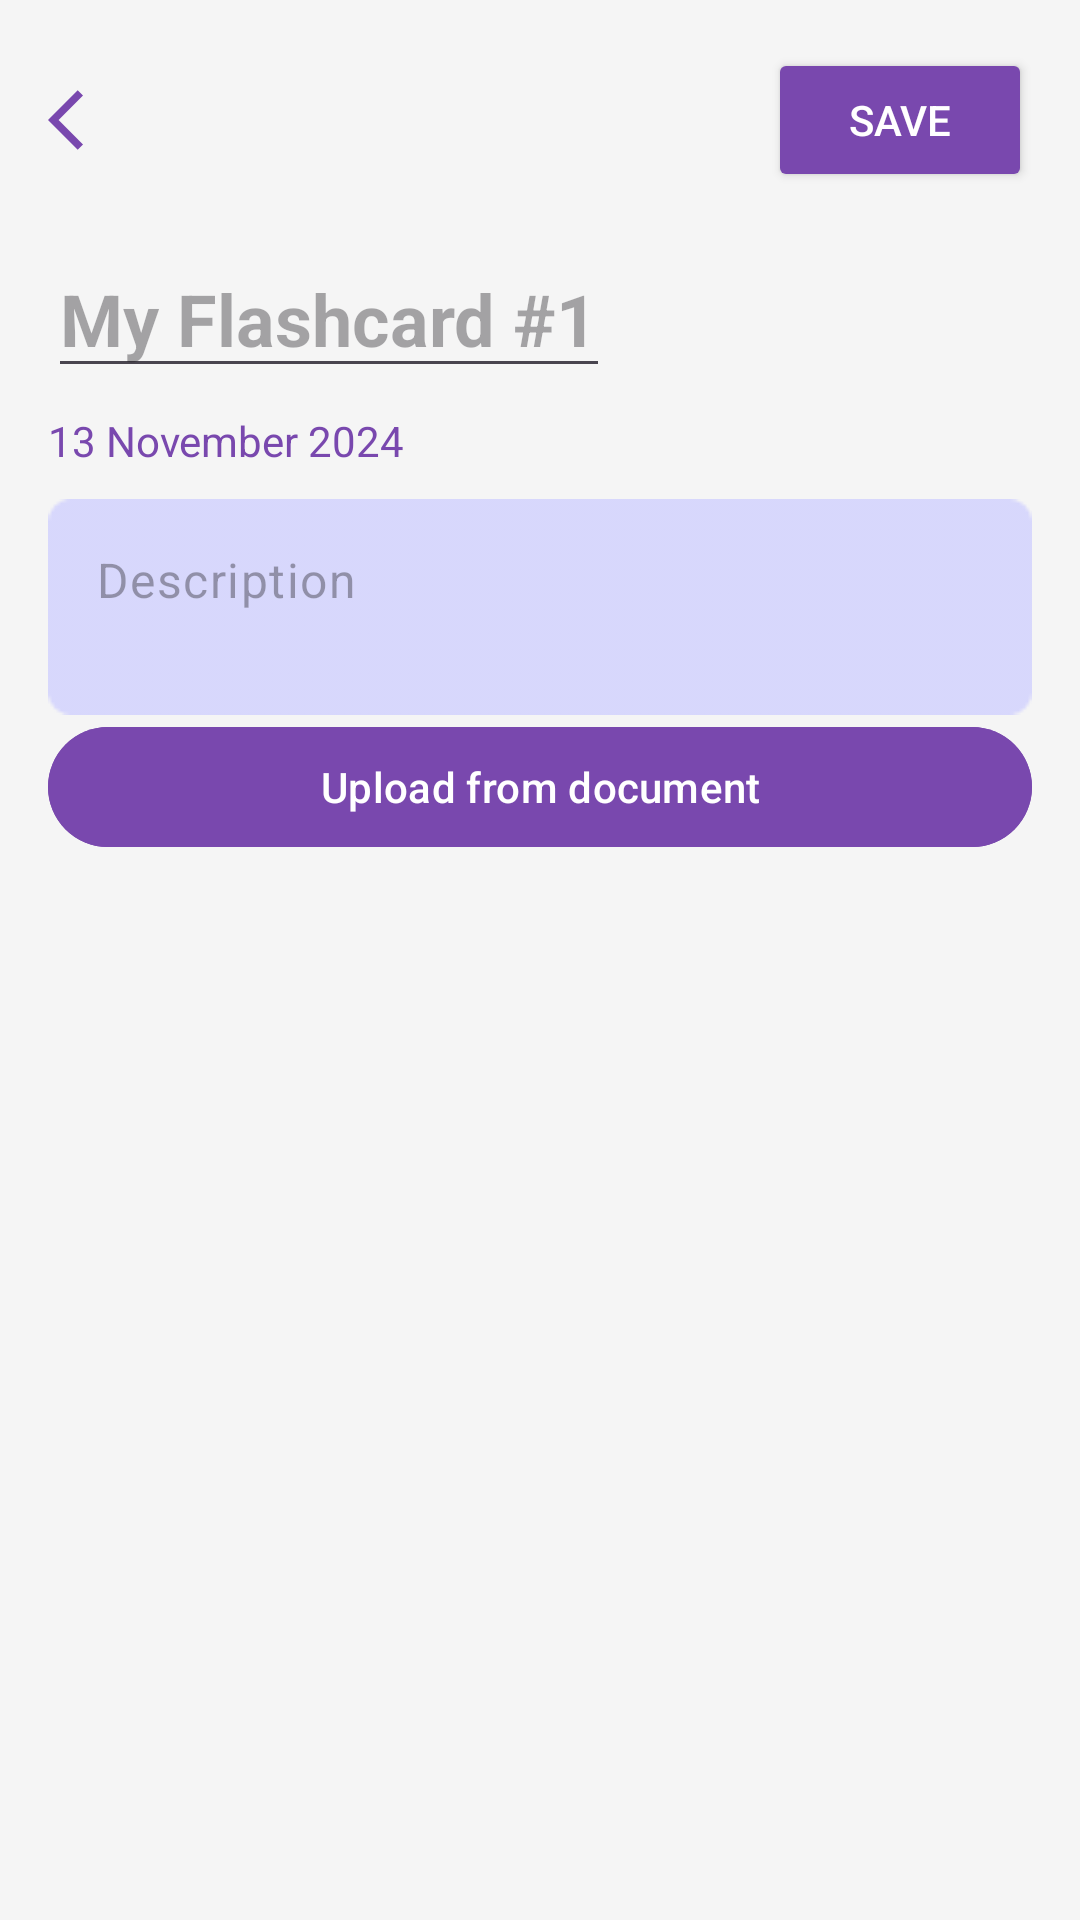

Icon click points for this 1080w x 1920h phone screenshot, format [x,y]:
Back: [65,120]
